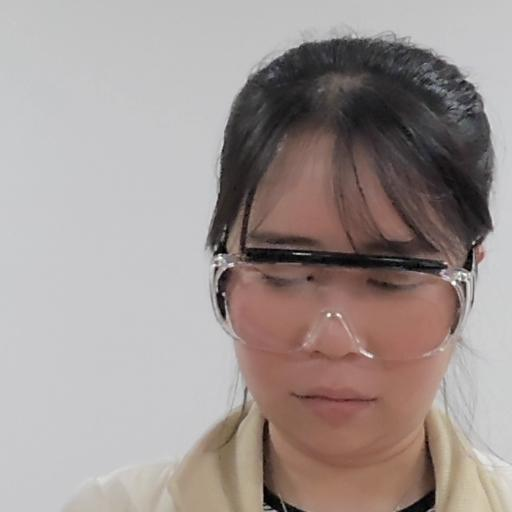glasses: (207, 34, 501, 462)
